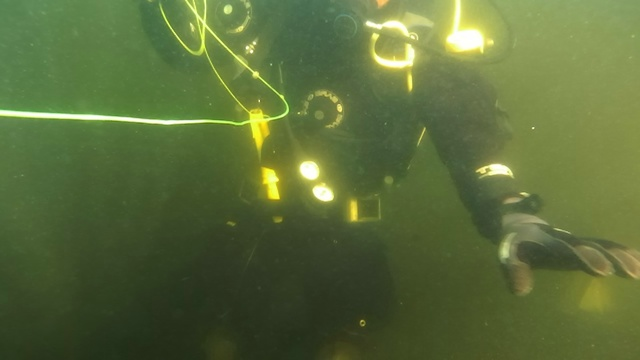Diver: (120, 0, 635, 353)
Hand: (438, 170, 631, 334)
